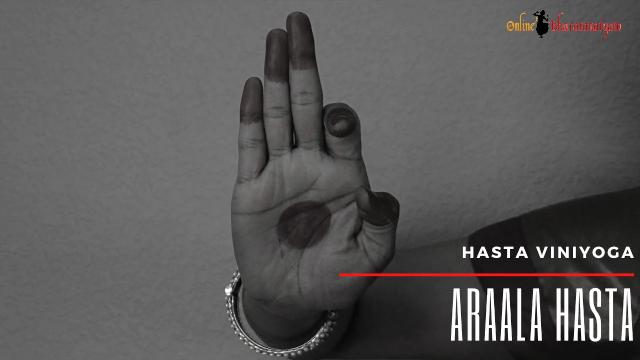aral: (200, 6, 424, 334)
